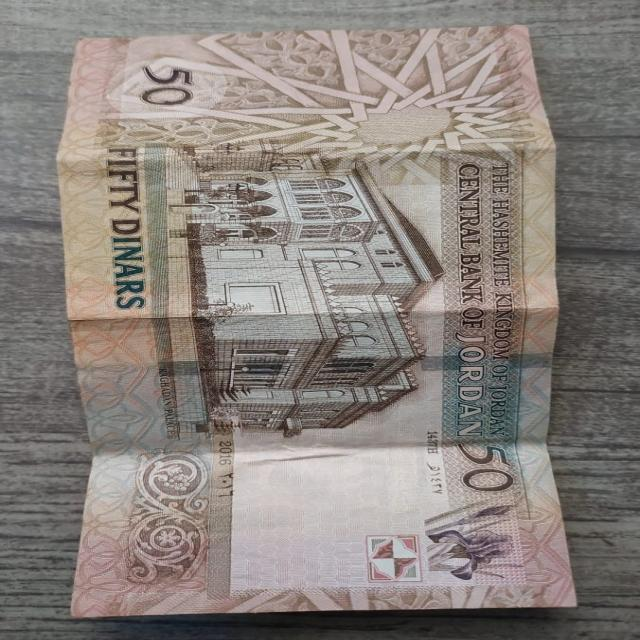50-dinar: (56, 24, 578, 618)
